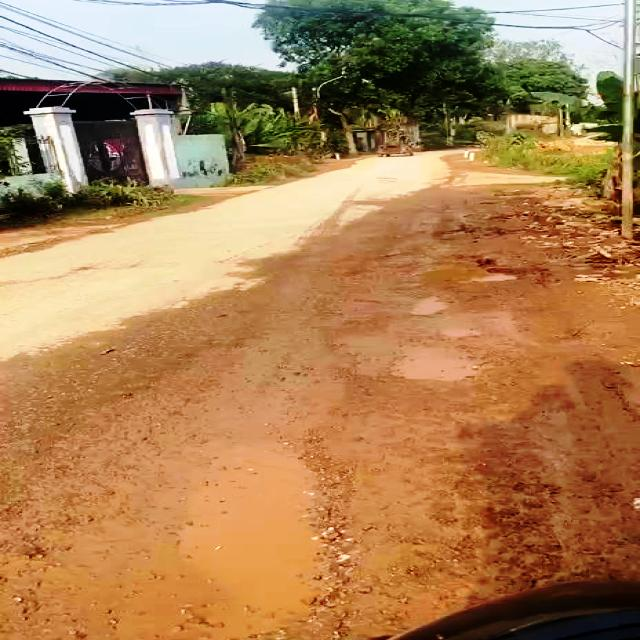pothole: (181, 438, 331, 628), (385, 352, 484, 387), (424, 263, 528, 286), (411, 290, 448, 318)
